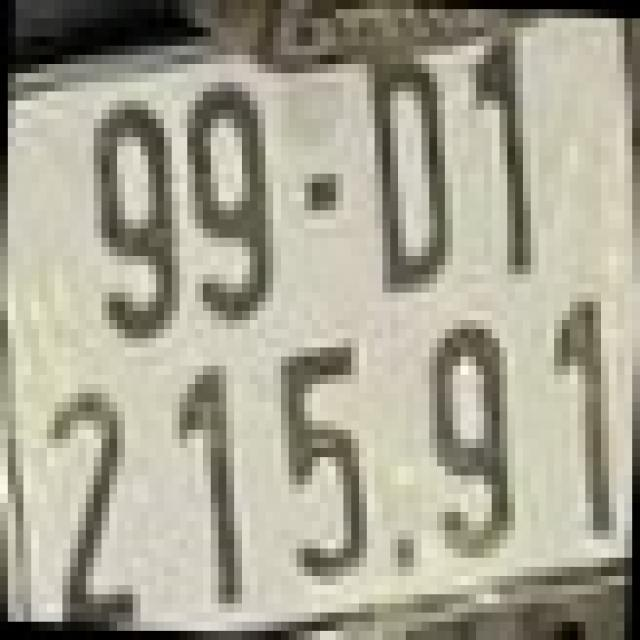1: (172, 357, 258, 612), (546, 292, 624, 540), (468, 37, 546, 274)
2: (47, 384, 148, 622)
5: (273, 338, 375, 585)
9: (421, 320, 523, 567), (187, 82, 281, 329), (94, 101, 180, 338)
D: (367, 55, 453, 292)
